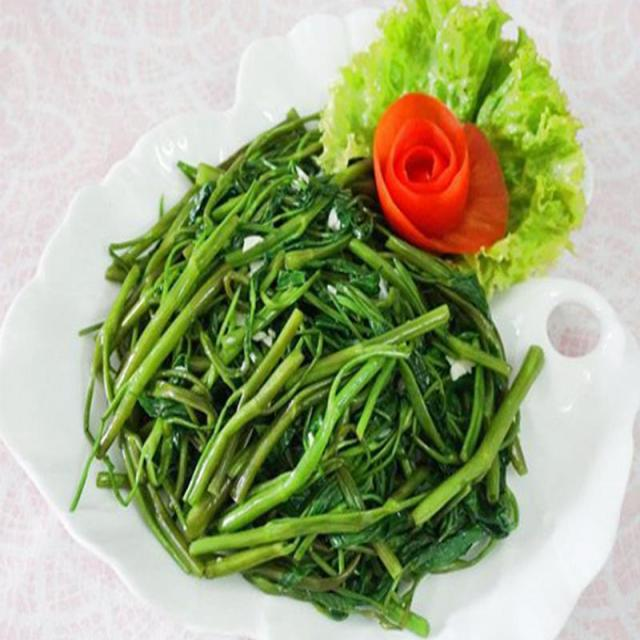rau muong: (71, 113, 542, 635)
